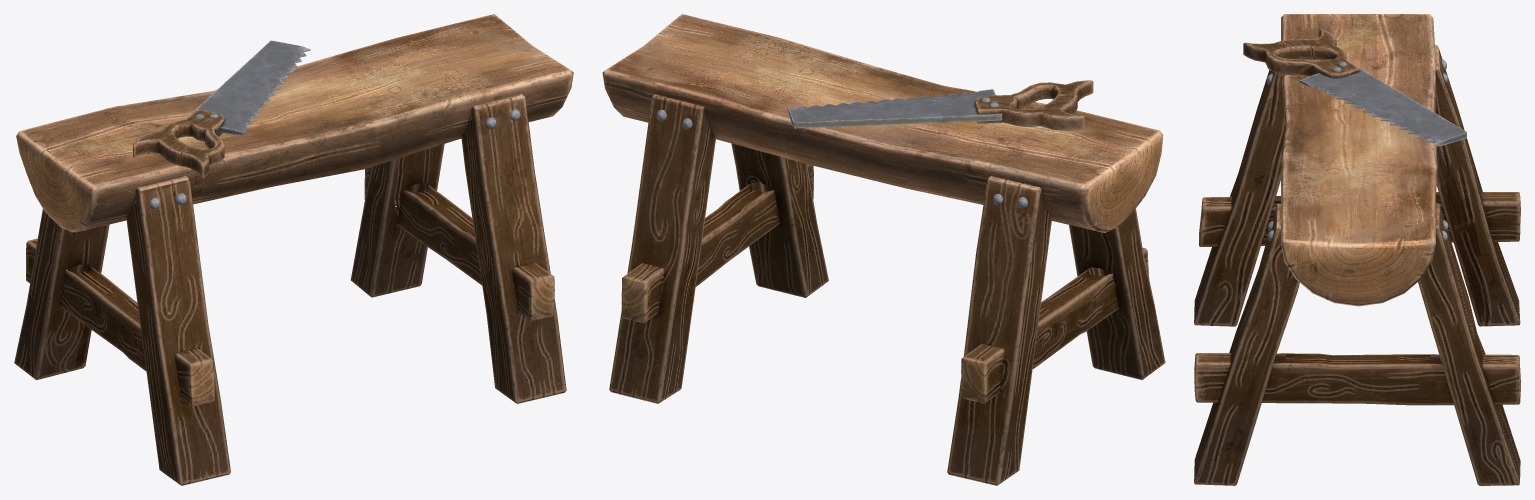
3 views of the same model, side by side, from view 1: azimuth 30°, elevation 25°; view 2: azimuth 150°, elevation 25°; view 3: azimuth 270°, elevation 25° (orthographic). The views are drawn at different scales.
Visible parts, largest first — view 1: SM_Dec_Workshop_Sawhorse_LOD0; view 2: SM_Dec_Workshop_Sawhorse_LOD0; view 3: SM_Dec_Workshop_Sawhorse_LOD0.
Boxes of the visible parts, box(x1,y1,x2,y2) form: SM_Dec_Workshop_Sawhorse_LOD0: box(14, 14, 573, 485); SM_Dec_Workshop_Sawhorse_LOD0: box(602, 14, 1165, 485); SM_Dec_Workshop_Sawhorse_LOD0: box(1194, 14, 1520, 485).
Bounding box in the file's own units: 1.47 × 0.8536 × 0.8834.
2 materials, 2 textured.
